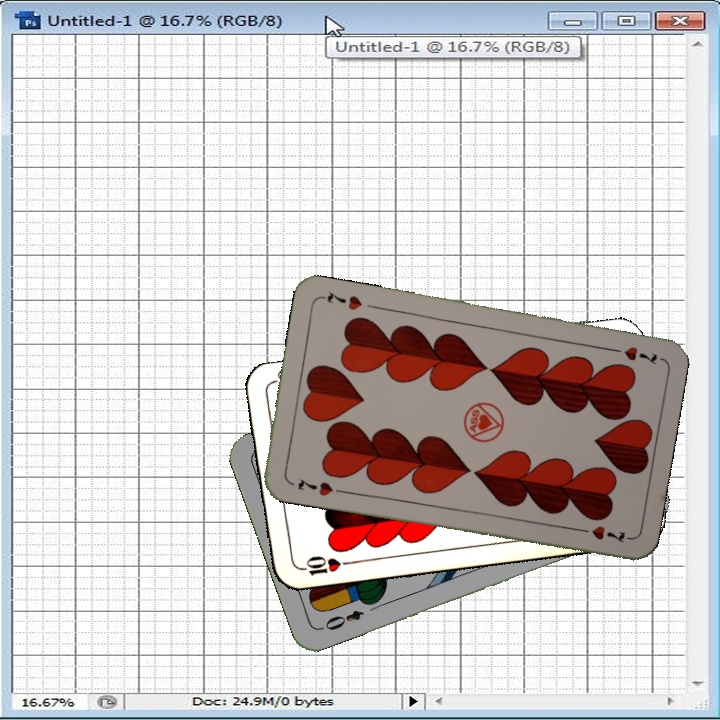EO: (316, 606, 367, 633)
H10: (294, 551, 353, 578)
H7: (604, 342, 660, 368), (294, 474, 336, 499)
